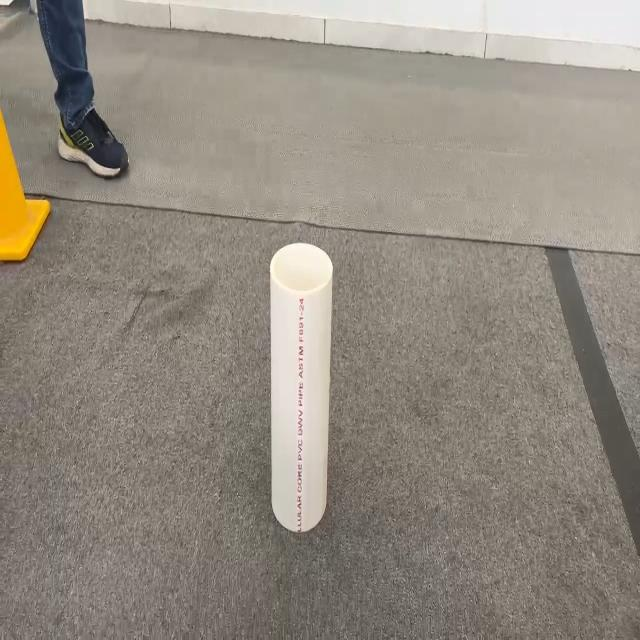coral: (269, 241, 333, 532)
